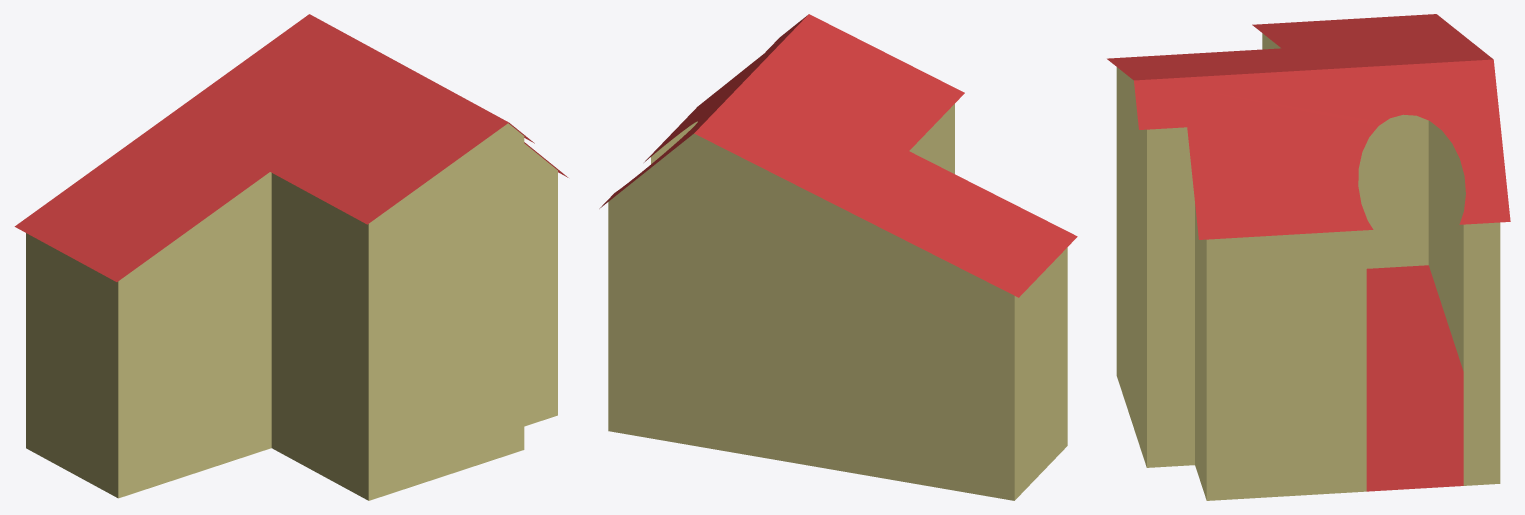
The picture shows the model from 3 angles, left to right: view 1: azimuth 30°, elevation 25°; view 2: azimuth 150°, elevation 25°; view 3: azimuth 270°, elevation 25°; orthographic projection. The views are drawn at different scales.
Bounding box in the file's own units: 15.71 × 10.98 × 11.27.
